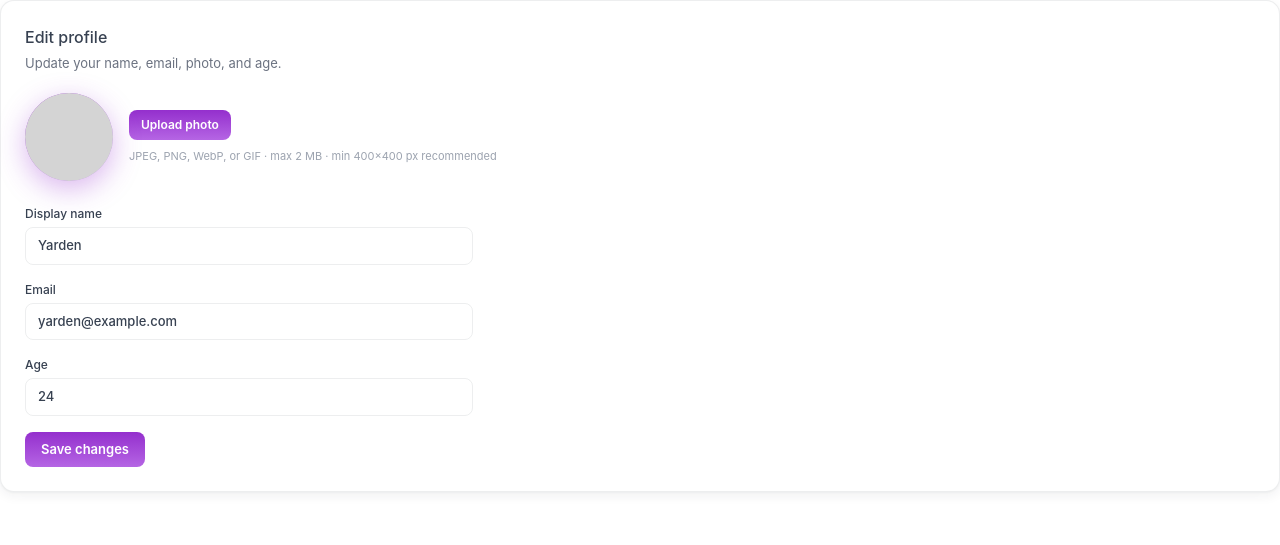
Scenario: EditProfileForm › saves trimmed fields and clears age when emptied
The image size is (1280, 545).
Clear the number field showing "24" at [249, 397], box [25,378,473,416]
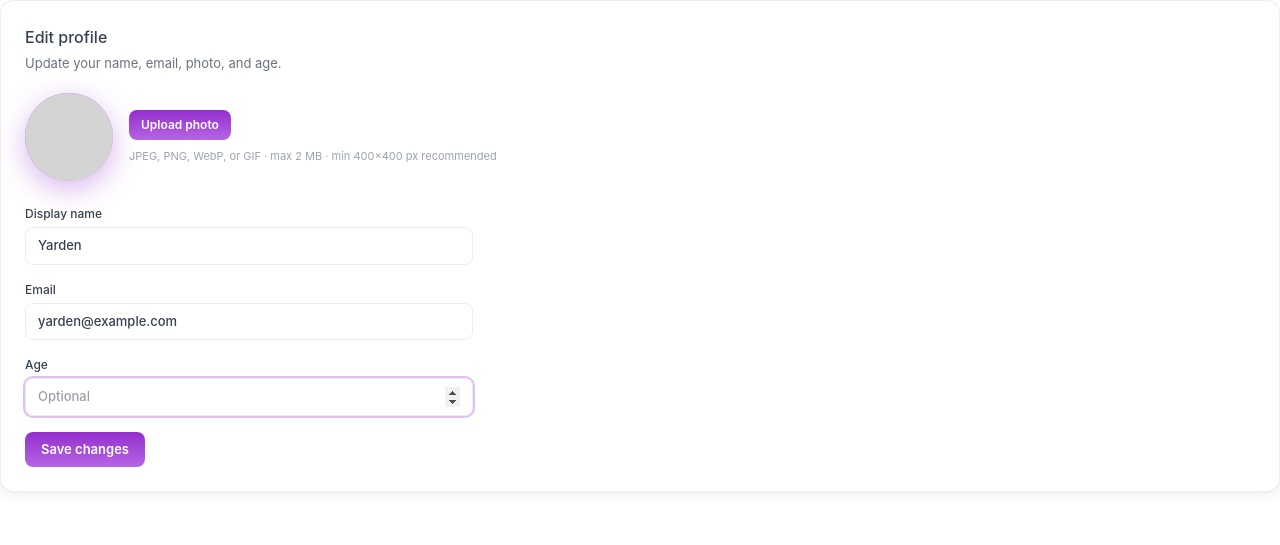
Click the button "Save changes" at [85, 449], box [25,432,145,467]
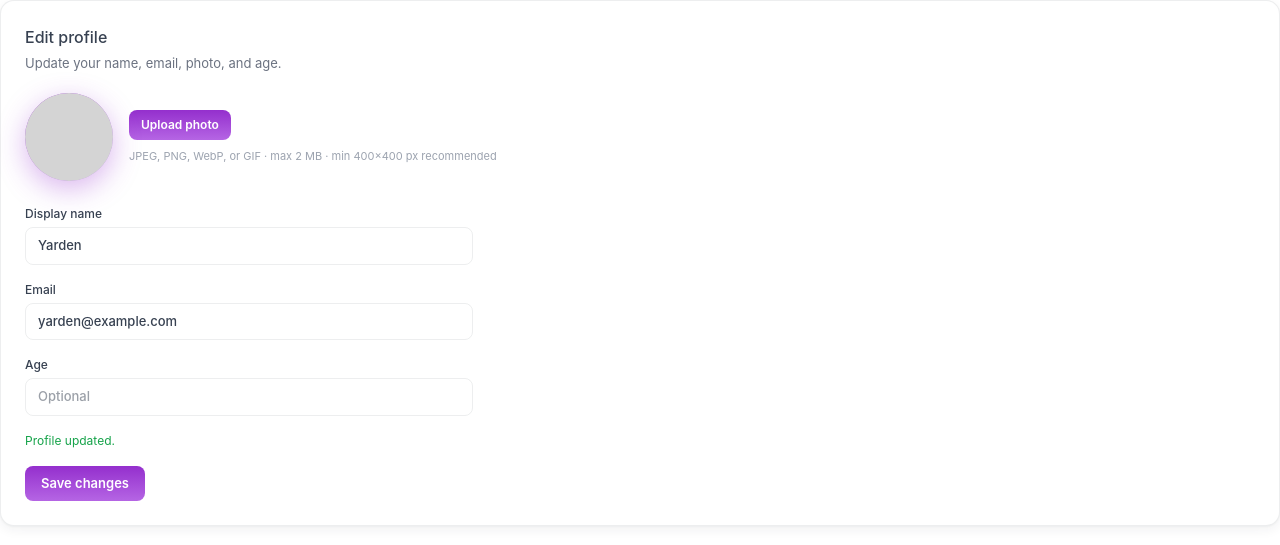
Expected: the text "Profile updated." is shown, [25,432,115,448]
